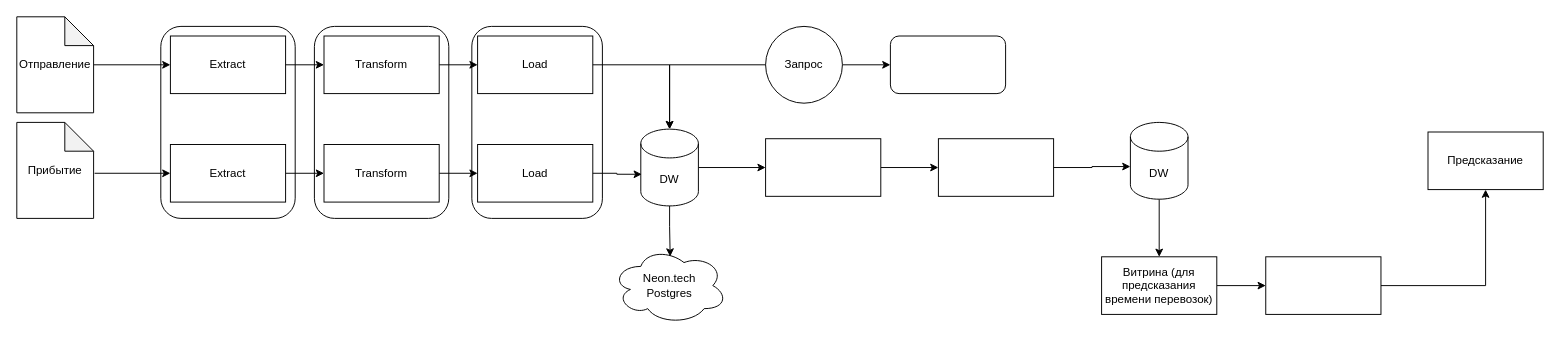
The diagram is 1560 pixels wide and 341 high, and some of its shapes have lost their labels. Here are the shapes that lost their labels. From the top down, the box of each, then its label:
(889, 35, 1006, 94): Визуализация Yandex DataLens Apache/Superset
(160, 25, 295, 218): WebServer SOAP/JSON
(313, 25, 449, 218): pandas NumPy
(471, 25, 602, 218): SQL
(765, 138, 881, 196): Витрина
(937, 138, 1054, 196): Анализ перевозок
(1265, 256, 1381, 314): Обучение модели регресии
